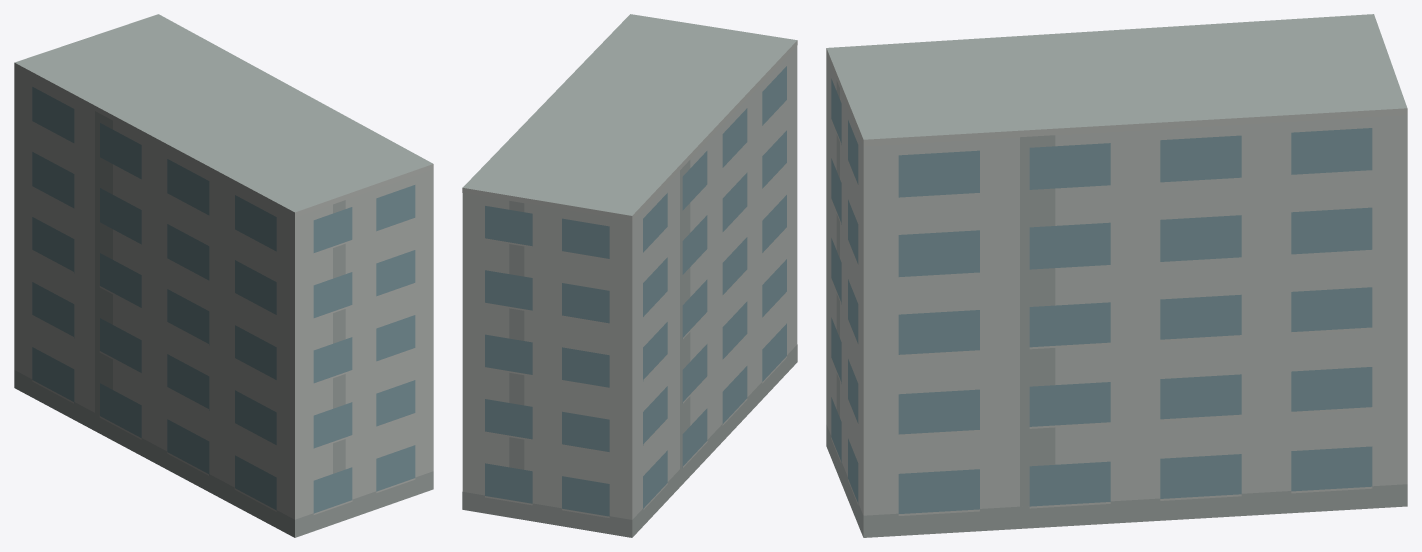
File: survey-upis-32579052.glb
3 views of the same model, side by side, from view 1: azimuth 30°, elevation 25°; view 2: azimuth 150°, elevation 25°; view 3: azimuth 270°, elevation 25° (orthographic). The views are drawn at different scales.
Visible parts, largest first — view 1: survey-upis-32579052.tmp; view 2: survey-upis-32579052.tmp; view 3: survey-upis-32579052.tmp.
Part boxes in pixels (box(x1,y1,x2,y2)): survey-upis-32579052.tmp: box(14, 14, 433, 537); survey-upis-32579052.tmp: box(462, 14, 797, 537); survey-upis-32579052.tmp: box(826, 14, 1407, 537).
Bounding box in the file's own units: 10.1 × 14.9 × 19.72.
